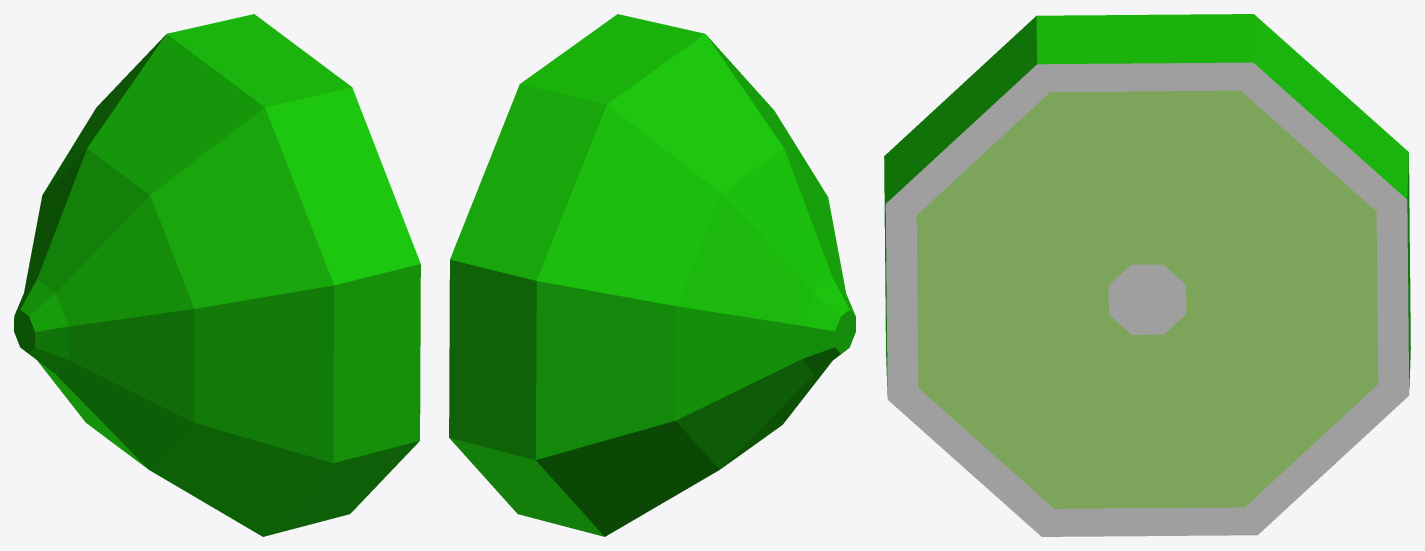
File: lime02.obj
The picture shows the model from 3 angles, left to right: view 1: azimuth 30°, elevation 25°; view 2: azimuth 150°, elevation 25°; view 3: azimuth 270°, elevation 25°; orthographic projection. The views are drawn at different scales.
Visible parts, largest first — view 1: Cylinder.001; view 2: Cylinder.001; view 3: Cylinder.001.
Part boxes in pixels (<box>): Cylinder.001: <box>14,14,420,536</box>; Cylinder.001: <box>449,14,855,536</box>; Cylinder.001: <box>884,14,1410,536</box>.
Size of the model in its own units: 0.0239 by 0.0356 by 0.0356.
1 material, 1 textured.
